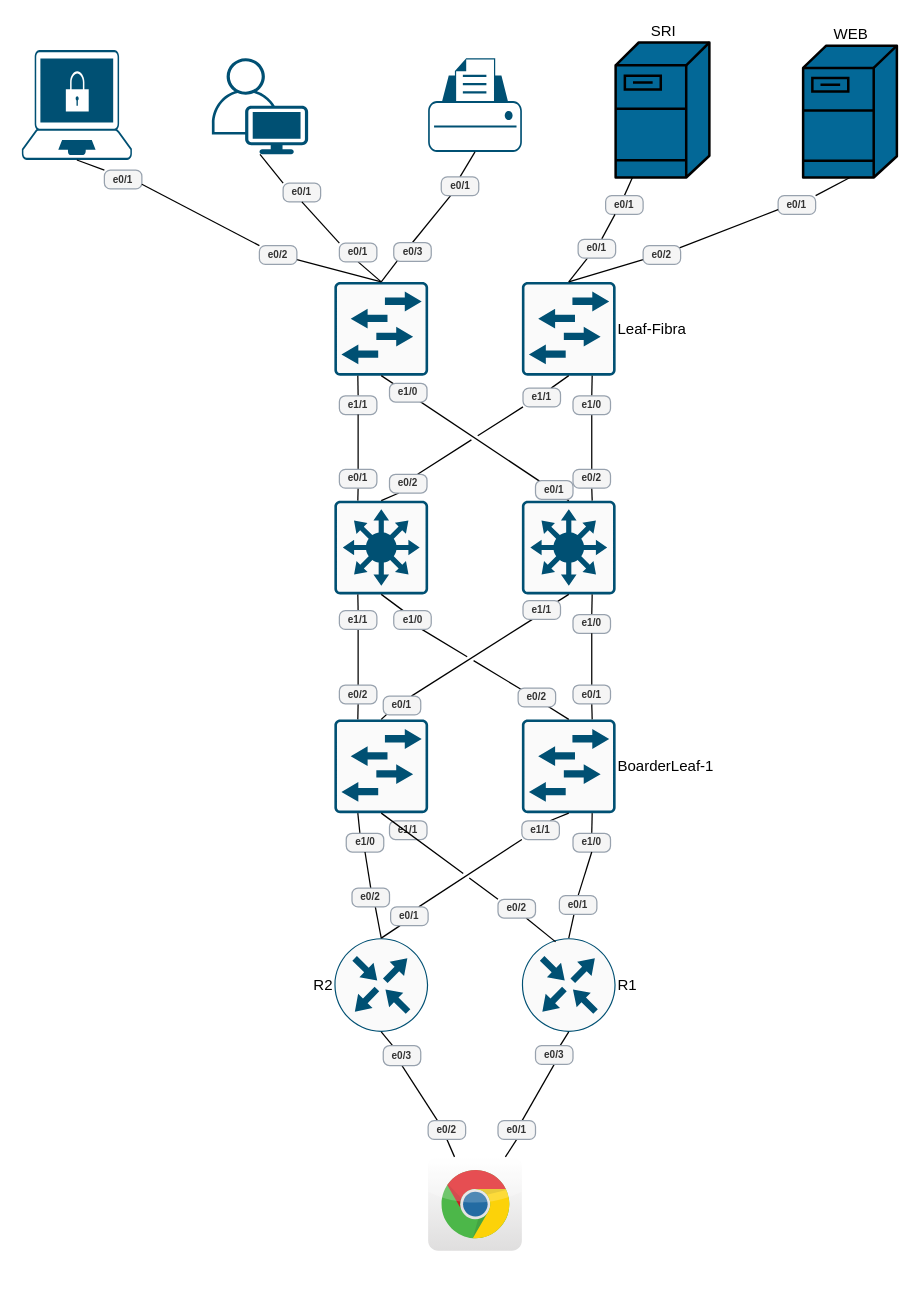
The diagram is 919 pixels wide and 1299 high, and some of its shapes have lost their labels. Here are the shapes that lost their labels. From the top down, the centre of each, then its label:
At (76,104): "It-users".
At (259,106): "Corp".
At (474,104): "Impresora".
At (380,328): "Leaf-Cobre".
At (380,546): "SPINE-2".
At (568,546): "SPINE-1".
At (380,765): "BoarderLeaf-2".
At (474,1203): "Internet".
